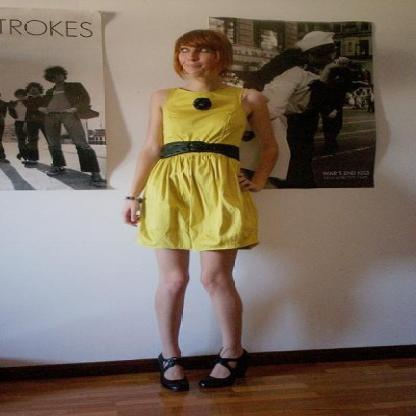dress: (137, 86, 250, 251)
shoe: (162, 350, 254, 394)
